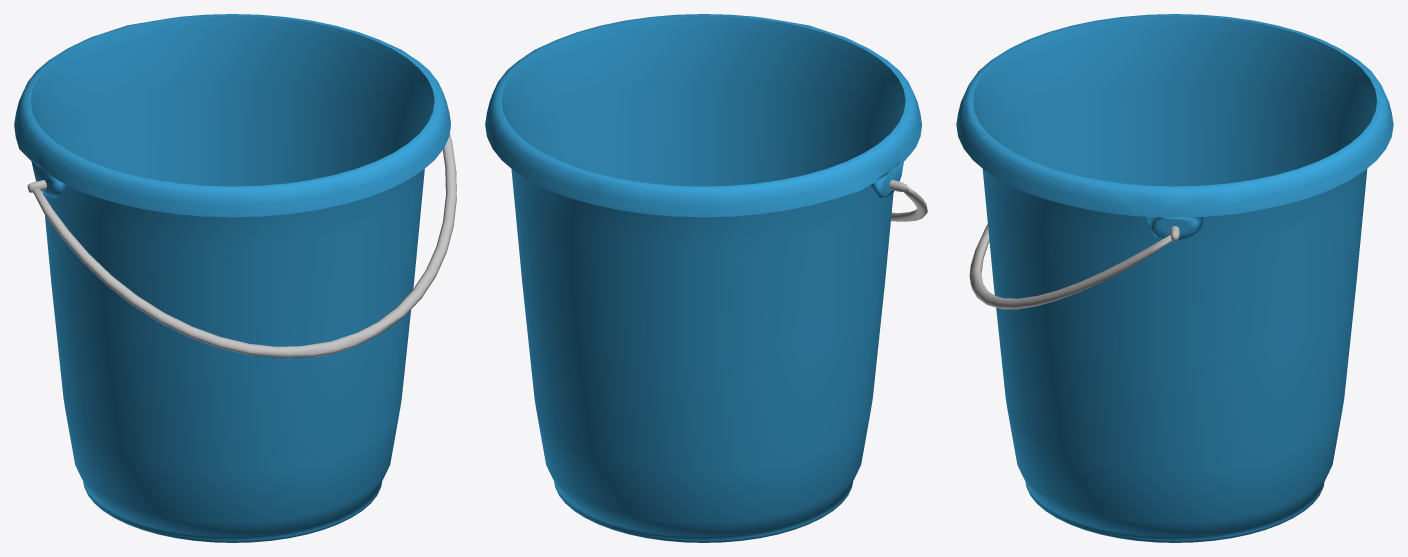
Rendered from bucket.fbx.
3 renders of one model, left to right at view 1: azimuth 30°, elevation 25°; view 2: azimuth 150°, elevation 25°; view 3: azimuth 270°, elevation 25°, orthographic.
Visible parts, largest first — view 1: bucket; view 2: bucket; view 3: bucket.
Part boxes in pixels (bbox=[...]): bucket: bbox=[14, 14, 456, 542]; bucket: bbox=[485, 14, 927, 542]; bucket: bbox=[956, 14, 1393, 542].
Size of the model in its own units: 2991 by 2650 by 2768.
1 material, 1 textured.
